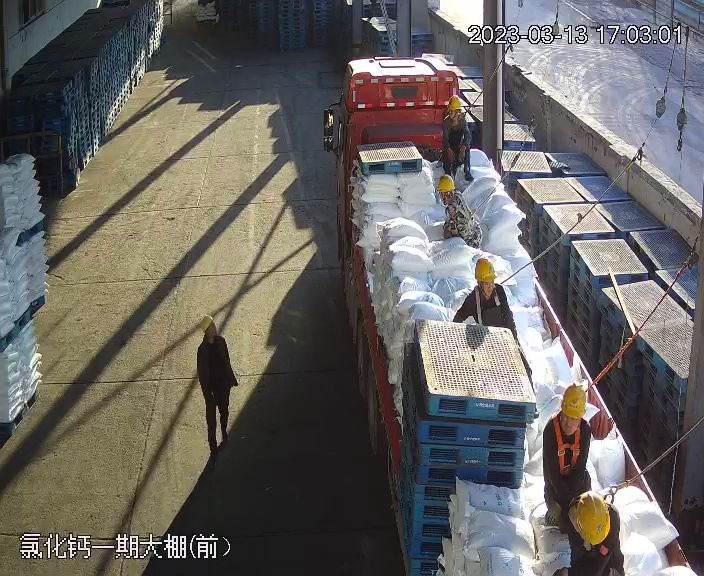belt: (588, 480, 627, 536), (550, 418, 586, 470), (472, 282, 502, 312), (442, 198, 468, 230), (445, 111, 464, 129)
head: (559, 489, 624, 563), (543, 385, 594, 442), (460, 258, 513, 308), (435, 175, 472, 217), (198, 318, 227, 357), (443, 96, 469, 125)
helmet: (571, 491, 614, 548), (559, 383, 587, 419), (473, 257, 497, 281), (434, 174, 457, 192), (202, 317, 217, 336), (446, 95, 464, 110)
people: (541, 383, 597, 546), (197, 318, 239, 454), (438, 96, 477, 185)
truck: (319, 52, 685, 572)
